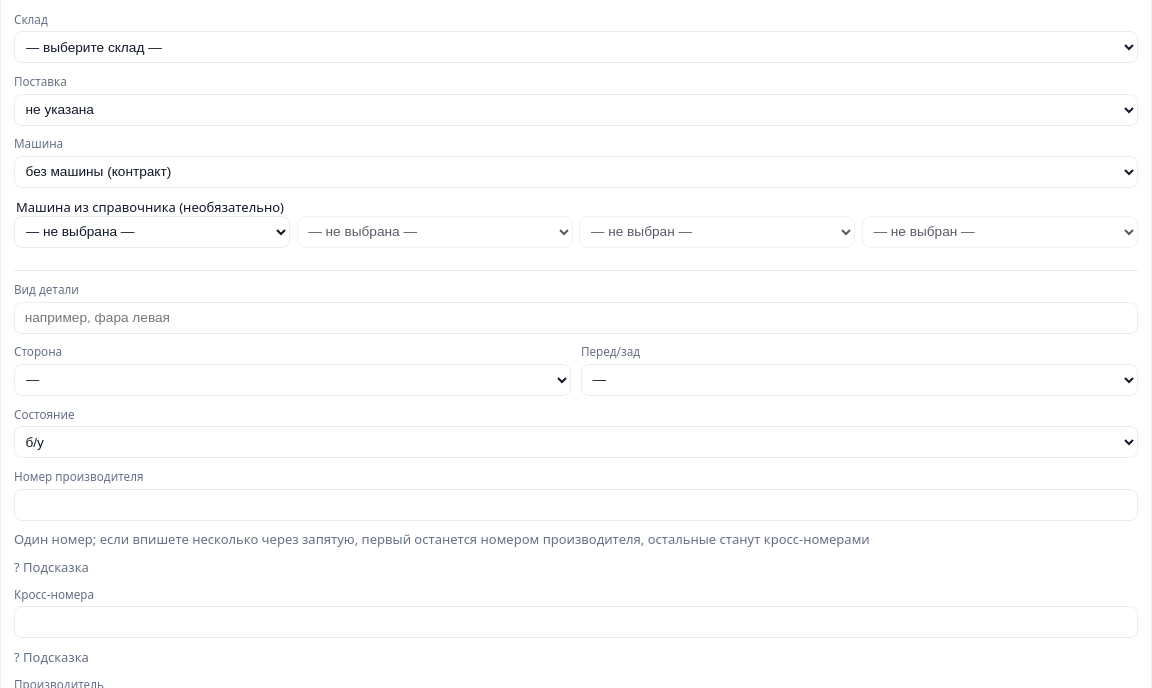
ожидаемый товар › у приёмщика «Ожидалось по этой поставке» и строка партии называют состояние
Select "Ткацкая" in the dropdown labelled "Склад": (576, 47) top-left (14, 31), bottom-right (1138, 63)
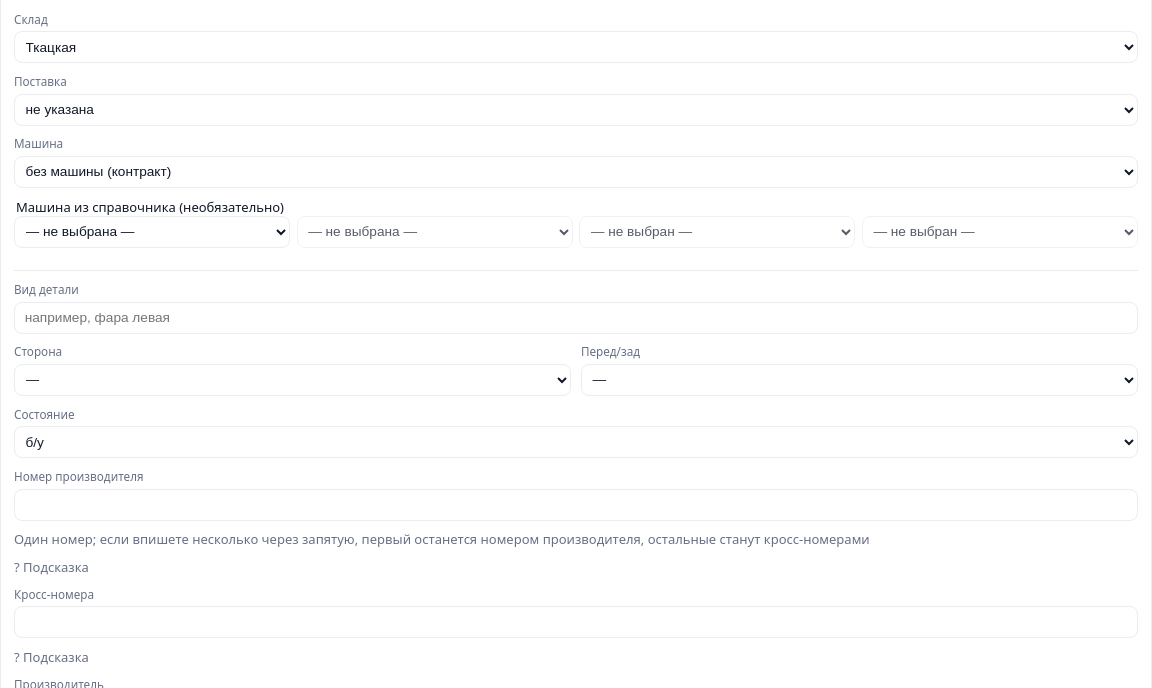
Select "18 · Иокогама" in the dropdown labelled "Поставка": (576, 110) top-left (14, 94), bottom-right (1138, 126)
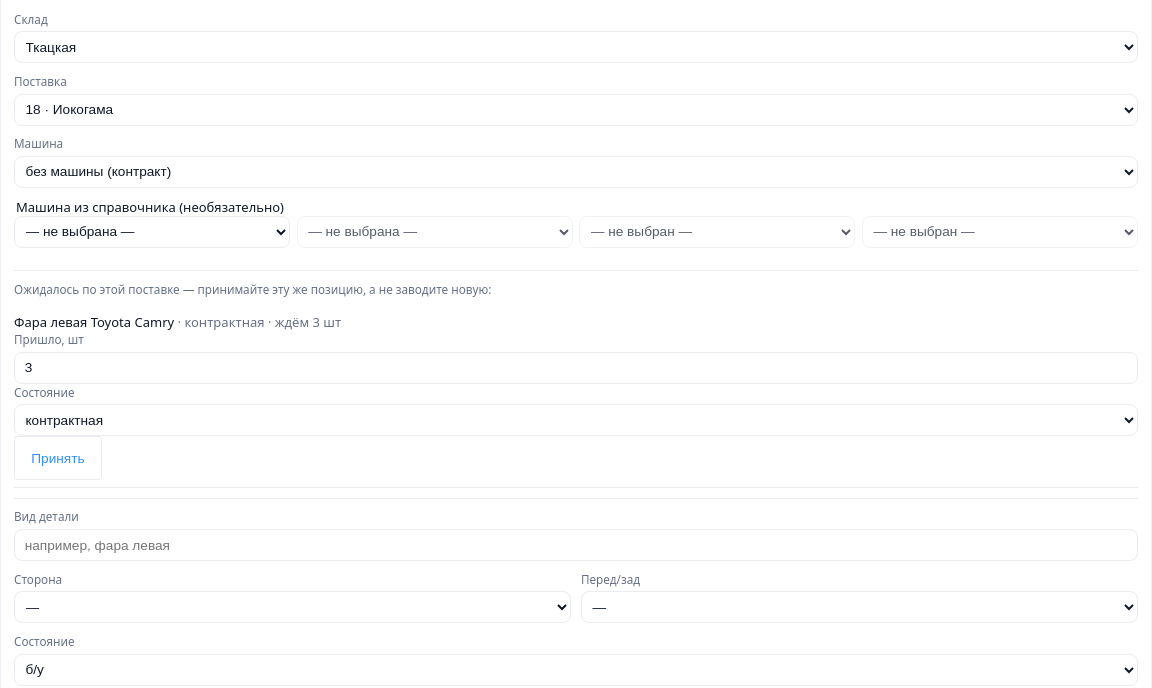
expect the list item "Фара левая Toyota Camry" shows "Фара левая Toyota Camry · контрактная · ждём 3 шт": met, box top-left (14, 307), bottom-right (1138, 488)
Click the button "Принять": (58, 458) top-left (14, 436), bottom-right (102, 480)
(page scrolled)
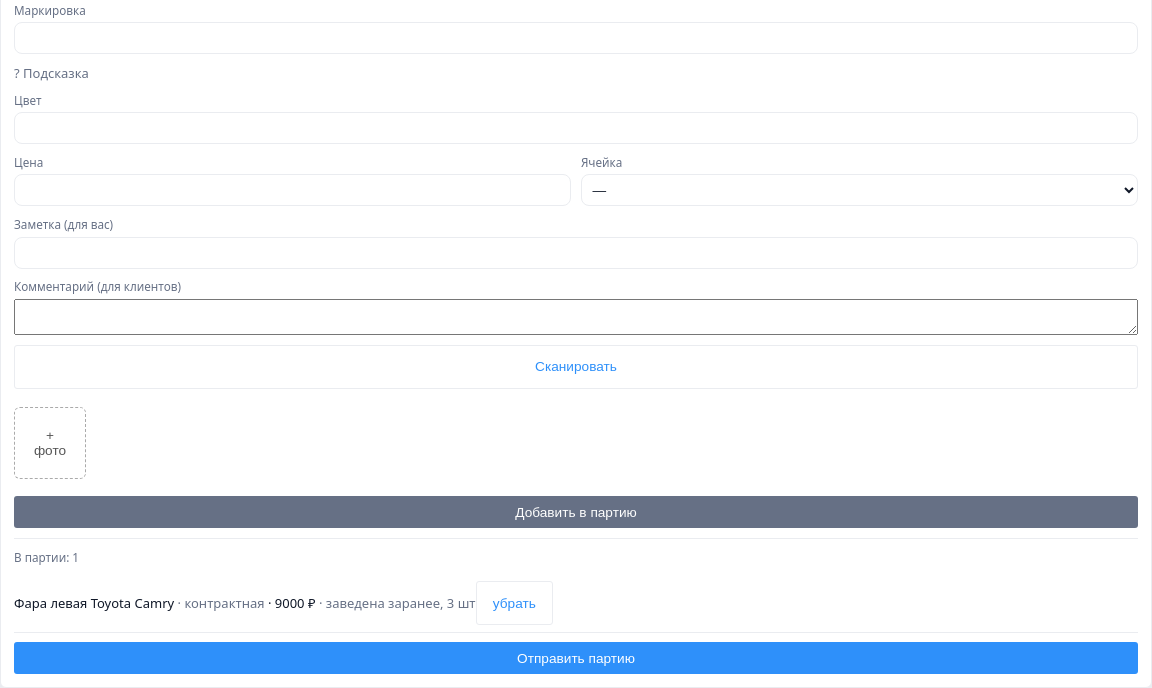
expect the list item shows "Фара левая Toyota Camry · контрактная · 9000 ₽": met, box top-left (14, 574), bottom-right (1138, 632)
